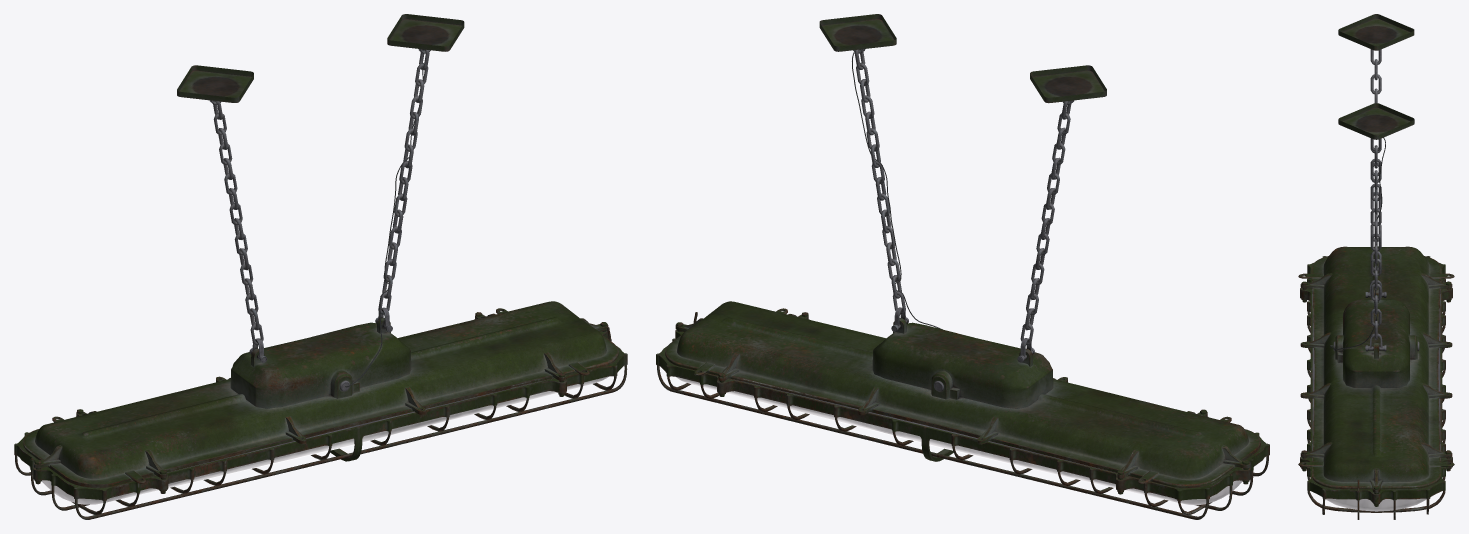
Rendered from CagedHangingLight.fbx.
3 views of the same model, side by side, from view 1: azimuth 30°, elevation 25°; view 2: azimuth 150°, elevation 25°; view 3: azimuth 270°, elevation 25° (orthographic). The views are drawn at different scales.
Parts seen in each view (by area): view 1: caged_hanging_light; view 2: caged_hanging_light; view 3: caged_hanging_light.
Part boxes in pixels (x1,y1,x2,y2): caged_hanging_light: [14, 14, 627, 519]; caged_hanging_light: [656, 14, 1269, 519]; caged_hanging_light: [1298, 14, 1454, 519].
Bounding box in the file's own units: 116 × 75.01 × 31.49.
